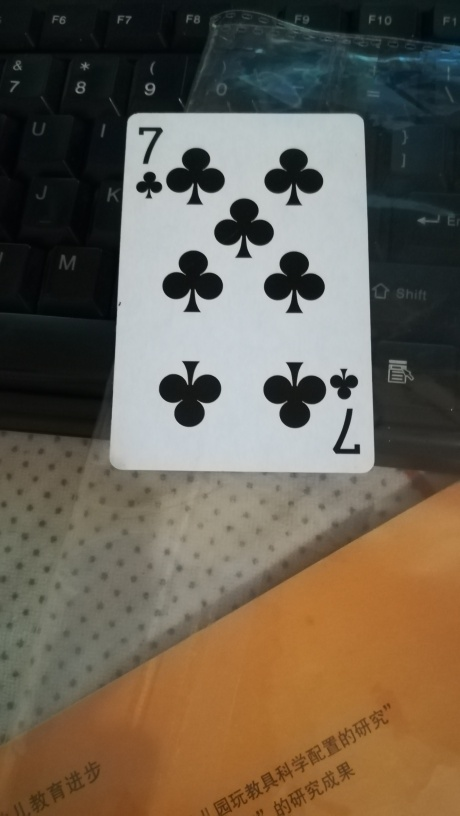mh 7: (109, 109, 376, 479)
